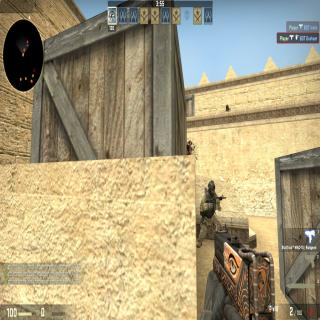CT-Body: (198, 178, 224, 246)
CT-Head: (207, 179, 216, 198)
